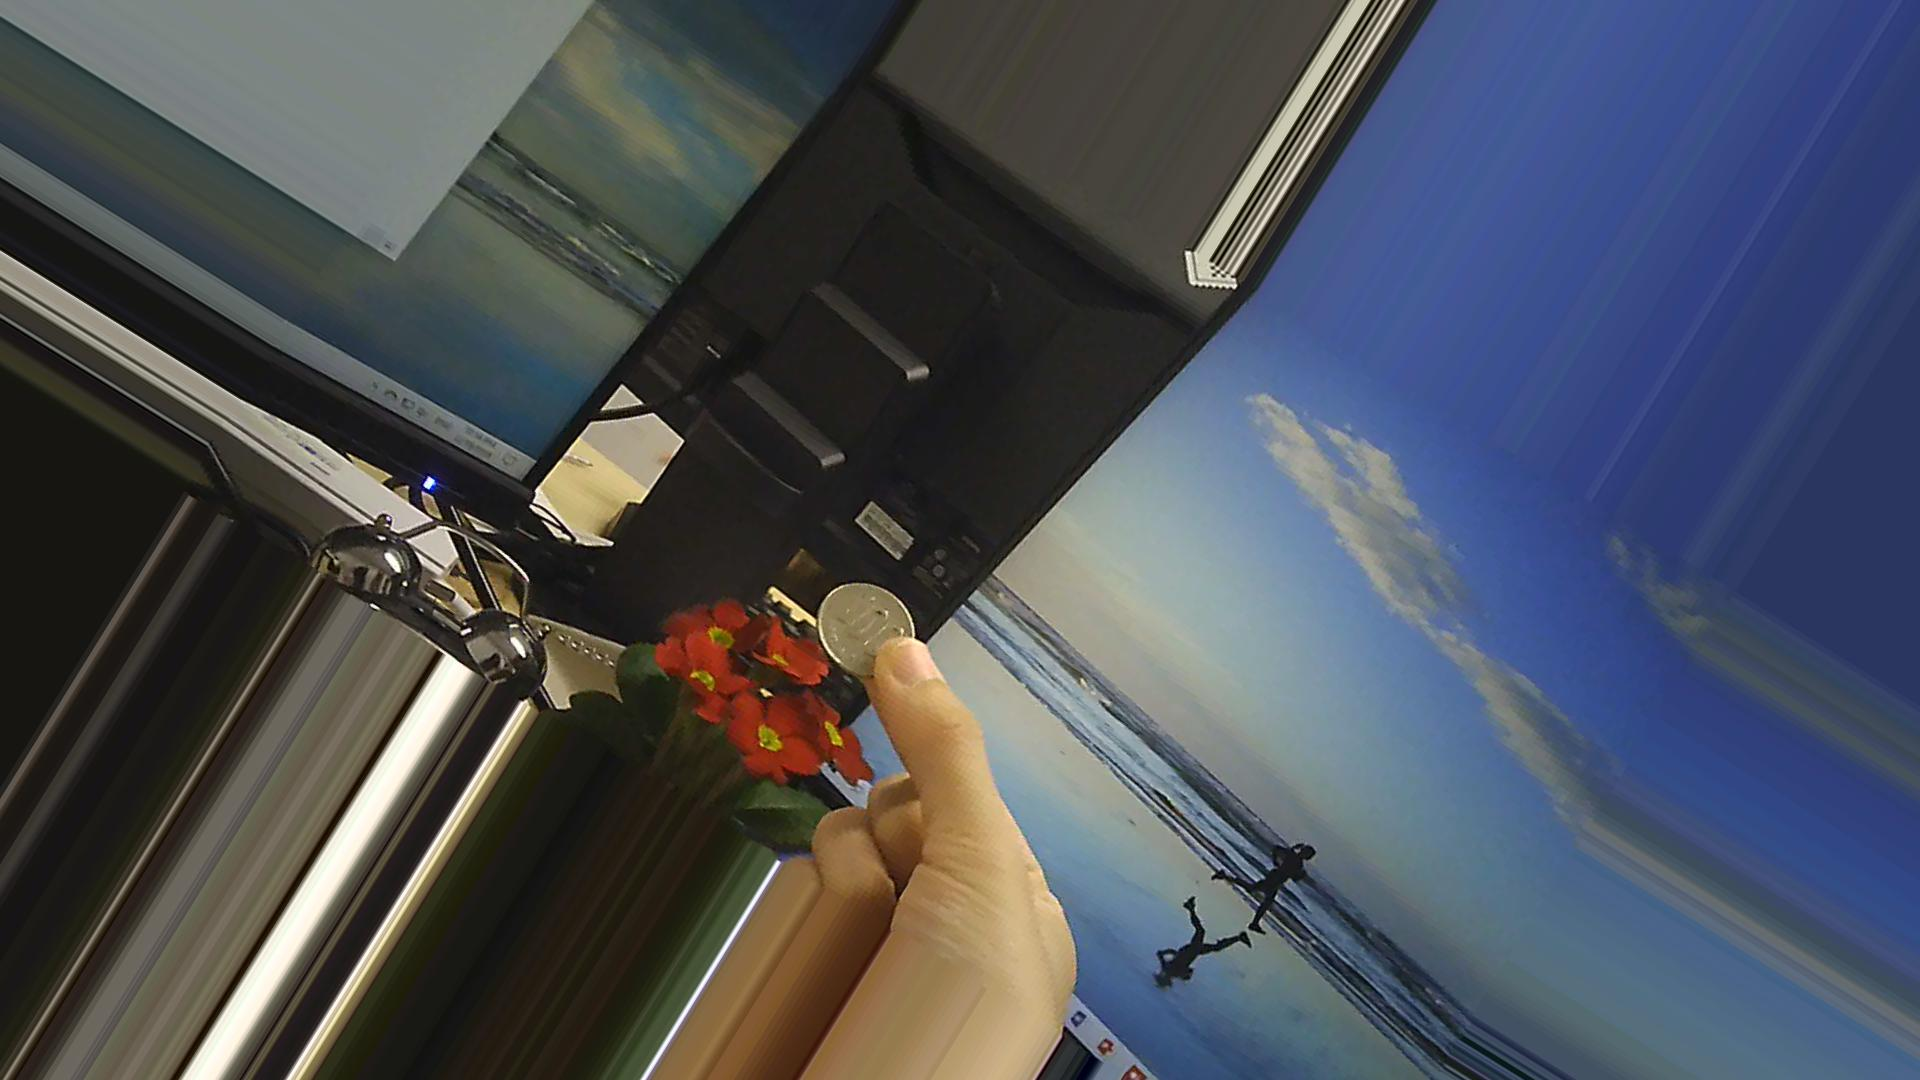100 Yen: (814, 571, 920, 678)
